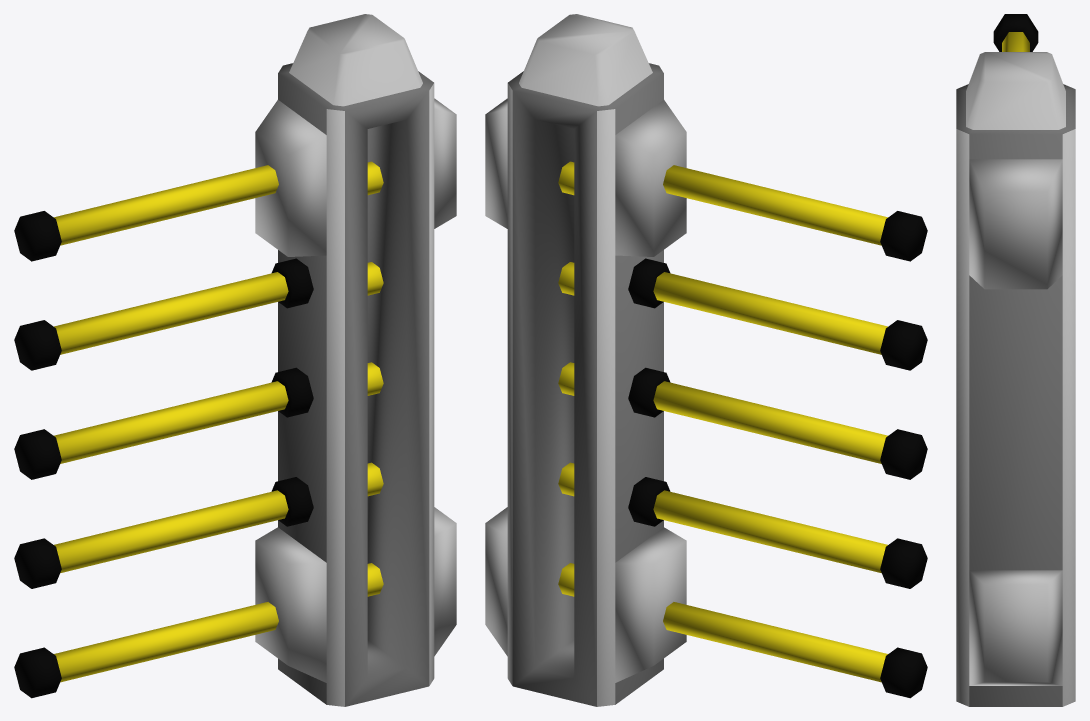
Rendered from LastWall-0.fbx.
3 renders of one model, left to right at view 1: azimuth 30°, elevation 25°; view 2: azimuth 150°, elevation 25°; view 3: azimuth 270°, elevation 25°, orthographic. The views are drawn at different scales.
Parts seen in each view (by area): view 1: Cube; view 2: Cube; view 3: Cube.
Part boxes in pixels (box(x1,y1,x2,y2)): Cube: box(14, 14, 456, 706); Cube: box(485, 14, 927, 706); Cube: box(956, 14, 1075, 706).
Bounding box in the file's own units: 80.18 × 118 × 20.83.
